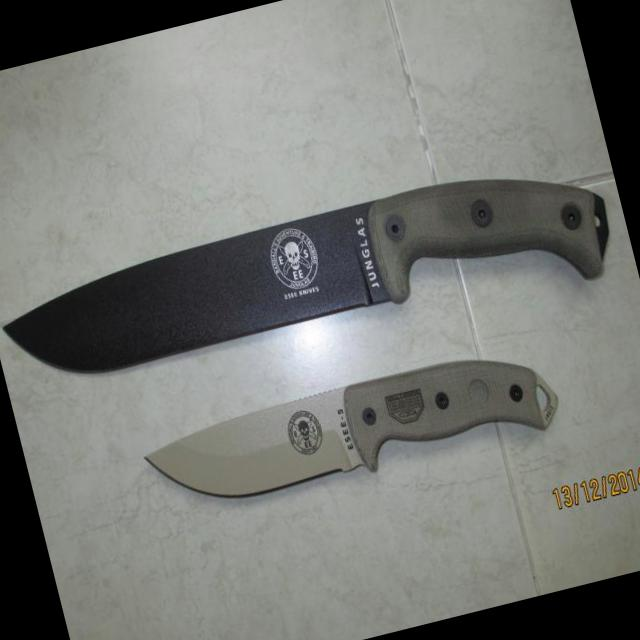Knife: (4, 181, 608, 371), (145, 360, 557, 497)
